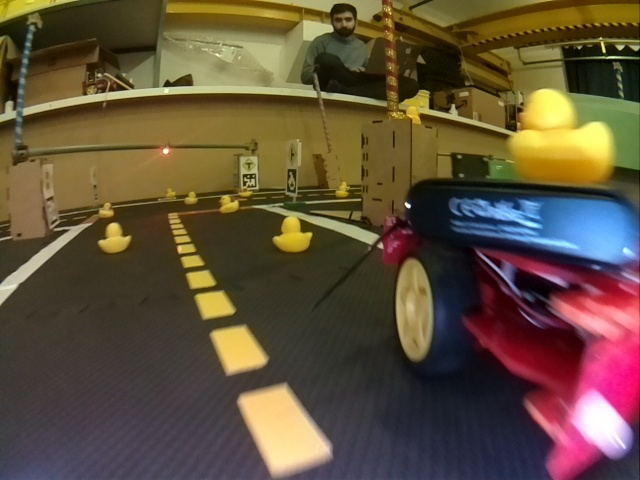Duckie: (515, 92, 606, 178), (273, 219, 312, 248), (100, 223, 128, 250), (220, 197, 239, 213), (184, 191, 199, 203), (100, 204, 113, 217), (335, 189, 348, 199), (241, 187, 252, 196), (166, 188, 175, 197)
Duckiebot: (384, 181, 637, 476)
Intersection sign: (288, 144, 298, 166), (242, 158, 256, 171)
QR code: (46, 195, 59, 227), (242, 174, 257, 188), (286, 174, 296, 194)
Traffic light: (160, 144, 169, 154)
